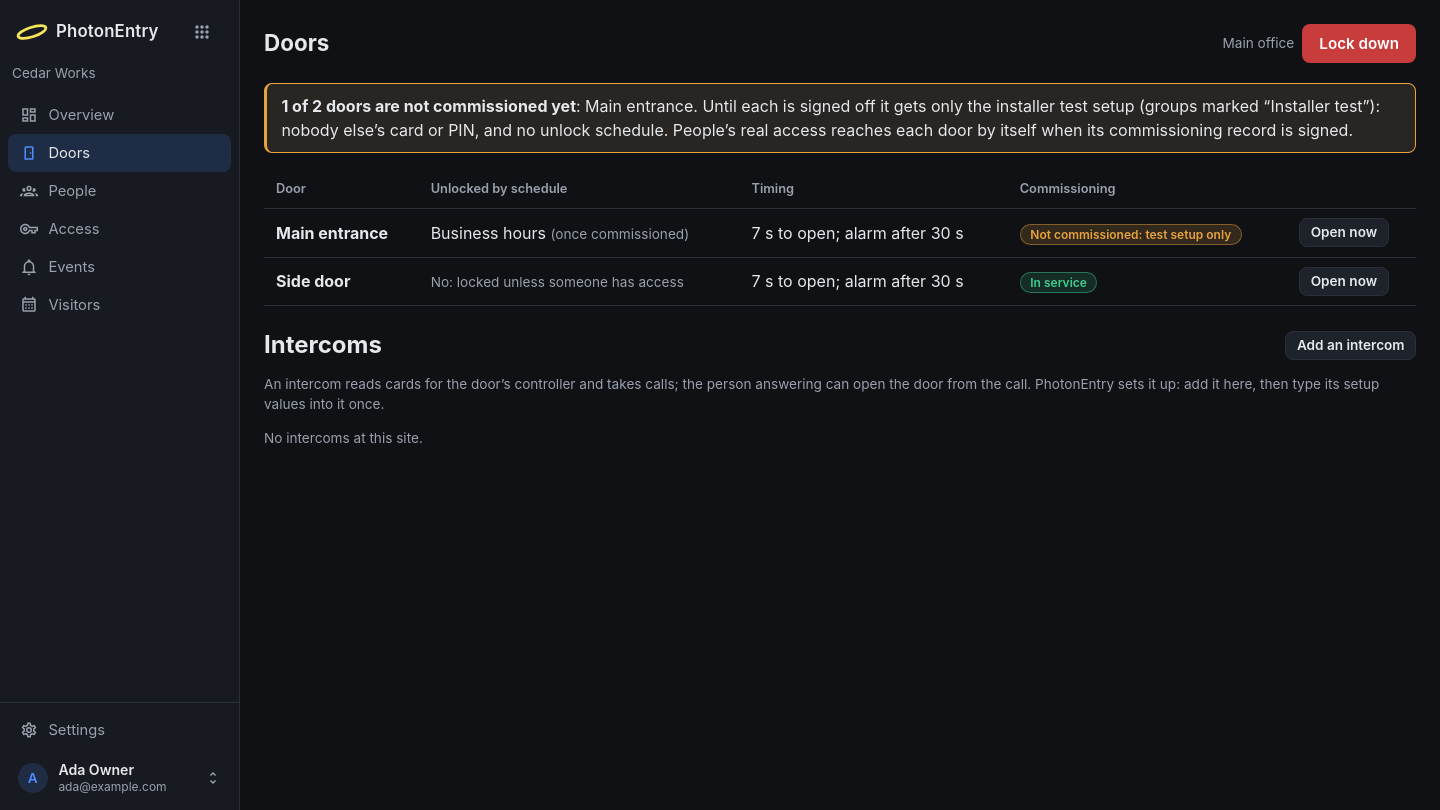
Scenario: holding doors back › says which doors get only the test setup, and what signing does when the site has not been published
Expected: the text "1 of 2 doors are not commissioned yet" is shown, top-left (281, 96), bottom-right (576, 116)
Expected: the text "(once commissioned)" is shown, top-left (550, 226), bottom-right (689, 242)
Click the button with aria-label "Main entrance: commission": x=1131, y=234 top-left (1020, 224), bottom-right (1242, 244)
(page scrolled)
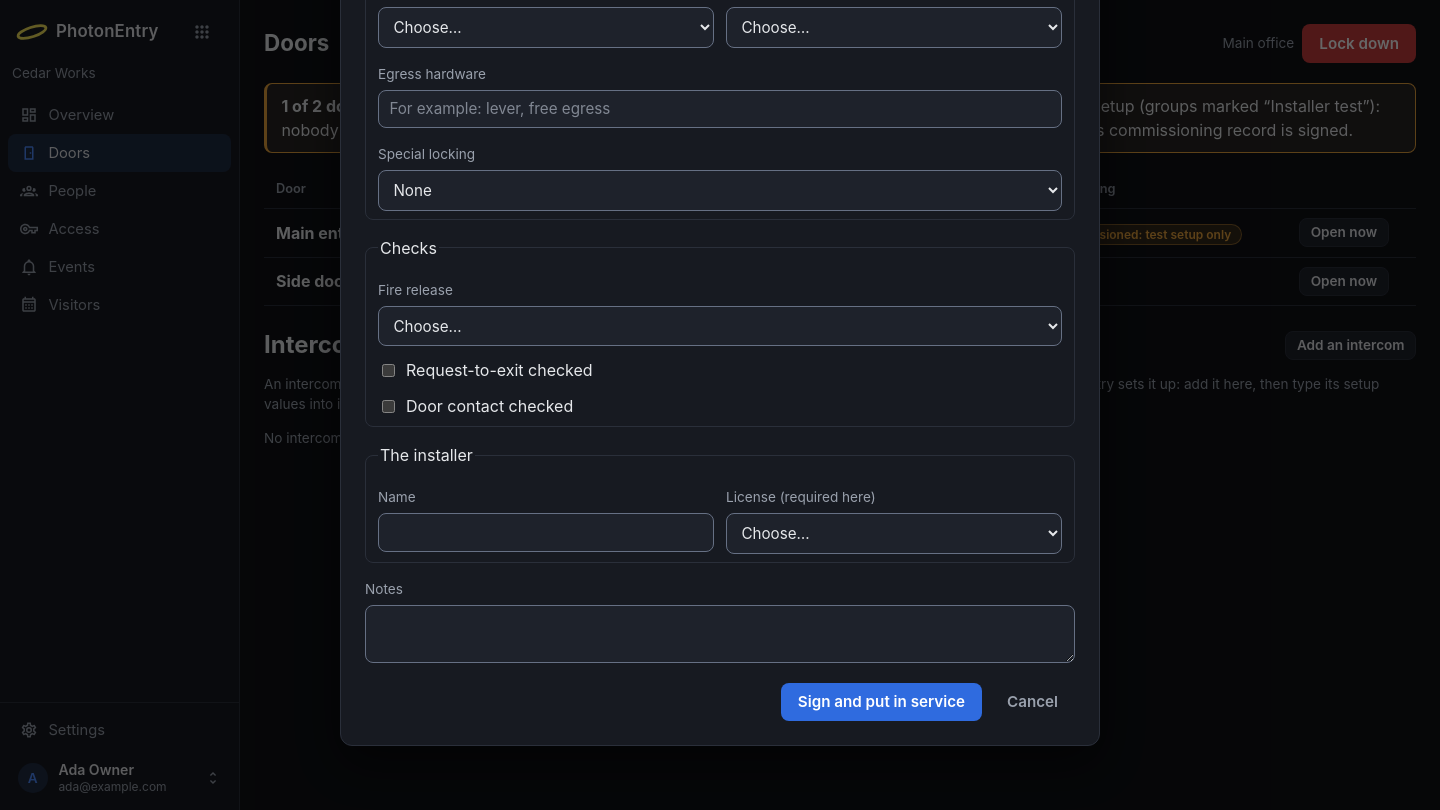
Click the button "Sign and put in service": x=881, y=702 top-left (781, 683), bottom-right (982, 721)
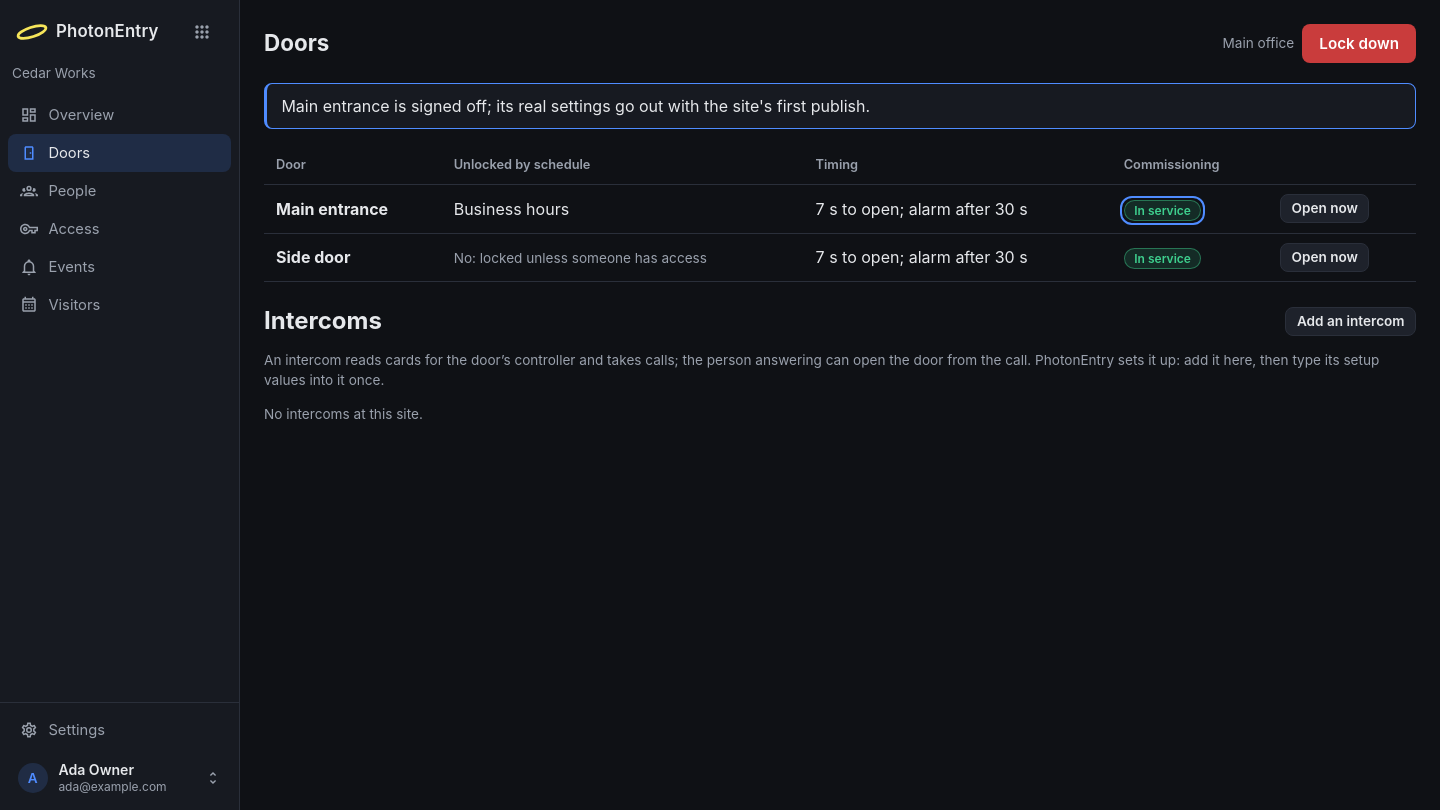
Expected: the text "its real settings go out with the site's first publish" is shown, top-left (281, 96), bottom-right (870, 116)
